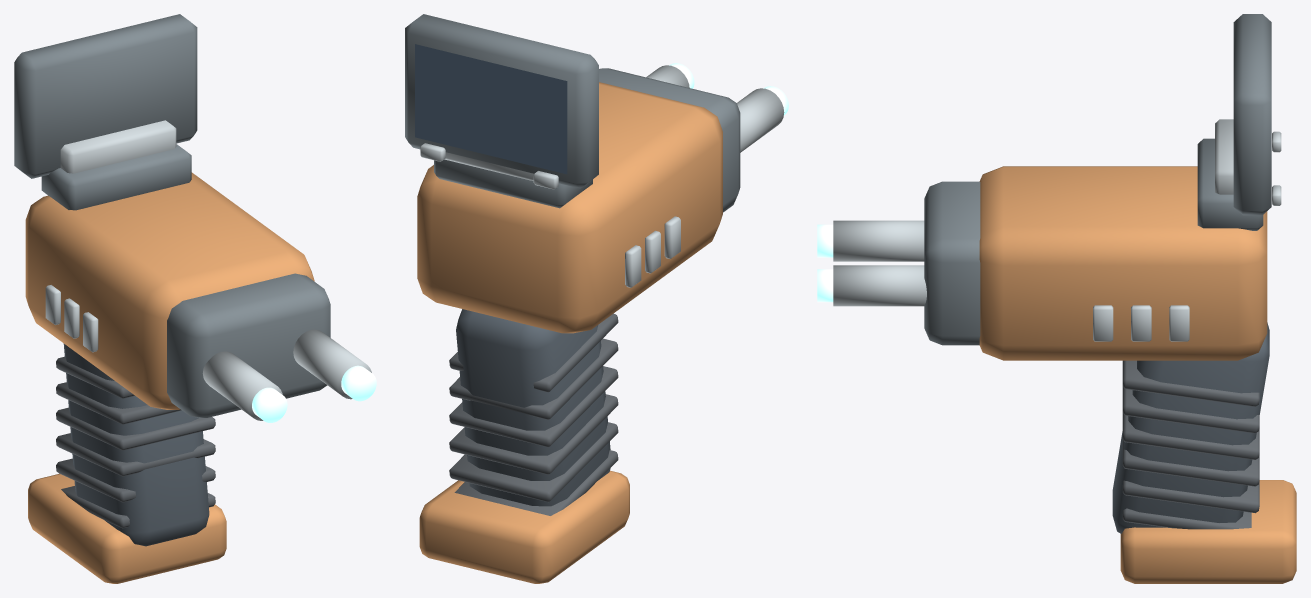
Rendered from build_gun_ultra.glb.
3 renders of one model, left to right at view 1: azimuth 30°, elevation 25°; view 2: azimuth 150°, elevation 25°; view 3: azimuth 270°, elevation 25°, orthographic. The views are drawn at different scales.
Visible parts, largest first — view 1: ToolBody_orange, LiveViewSurfaceFrame_frame, NoseHousing_frame, Grip_black, Battery_orange, GripRib_rubber, DisplayMount_frame, EmitterRail_steel, DisplayBracket_steel, Emitter_cyan, HousingVent_steel; view 2: ToolBody_orange, Grip_black, LiveViewSurface_glass, Battery_orange, GripRib_rubber, LiveViewSurfaceFrame_frame, NoseHousing_frame, DisplayMount_frame, EmitterRail_steel, HousingVent_steel, DisplayControls_steel, DisplayBracket_steel; view 3: ToolBody_orange, Grip_black, Battery_orange, GripRib_rubber, NoseHousing_frame, EmitterRail_steel, LiveViewSurfaceFrame_frame, DisplayMount_frame, HousingVent_steel, DisplayBracket_steel, Emitter_cyan.
Part boxes in pixels (x1=…): ToolBody_orange: x1=25, y1=172, x2=314, y2=409; LiveViewSurfaceFrame_frame: x1=14, y1=14, x2=197, y2=178; NoseHousing_frame: x1=167, y1=273, x2=330, y2=417; Grip_black: x1=63, y1=343, x2=209, y2=546; Battery_orange: x1=28, y1=473, x2=226, y2=583; GripRib_rubber: x1=56, y1=356, x2=215, y2=528; DisplayMount_frame: x1=41, y1=144, x2=191, y2=210; EmitterRail_steel: x1=202, y1=329, x2=371, y2=420; DisplayBracket_steel: x1=60, y1=120, x2=176, y2=173; Emitter_cyan: x1=252, y1=365, x2=376, y2=422; HousingVent_steel: x1=45, y1=285, x2=98, y2=352; ToolBody_orange: x1=417, y1=82, x2=722, y2=333; Grip_black: x1=456, y1=309, x2=610, y2=506; LiveViewSurface_glass: x1=415, y1=44, x2=567, y2=174; Battery_orange: x1=419, y1=470, x2=629, y2=583; GripRib_rubber: x1=449, y1=313, x2=618, y2=515; LiveViewSurfaceFrame_frame: x1=405, y1=14, x2=598, y2=188; NoseHousing_frame: x1=599, y1=68, x2=740, y2=212; DisplayMount_frame: x1=434, y1=159, x2=592, y2=208; EmitterRail_steel: x1=646, y1=65, x2=784, y2=152; HousingVent_steel: x1=625, y1=216, x2=680, y2=287; DisplayControls_steel: x1=420, y1=143, x2=558, y2=189; DisplayBracket_steel: x1=444, y1=152, x2=533, y2=180; ToolBody_orange: x1=979, y1=166, x2=1267, y2=360; Grip_black: x1=1112, y1=322, x2=1269, y2=533; Battery_orange: x1=1120, y1=480, x2=1296, y2=583; GripRib_rubber: x1=1122, y1=360, x2=1259, y2=529; NoseHousing_frame: x1=924, y1=181, x2=980, y2=345; EmitterRail_steel: x1=833, y1=220, x2=926, y2=306; LiveViewSurfaceFrame_frame: x1=1233, y1=14, x2=1271, y2=215; DisplayMount_frame: x1=1197, y1=138, x2=1263, y2=230; HousingVent_steel: x1=1093, y1=305, x2=1189, y2=341; DisplayBracket_steel: x1=1215, y1=119, x2=1233, y2=194; Emitter_cyan: x1=817, y1=224, x2=833, y2=302.
Size of the model in its own units: 0.371 by 0.95 by 0.8175.
